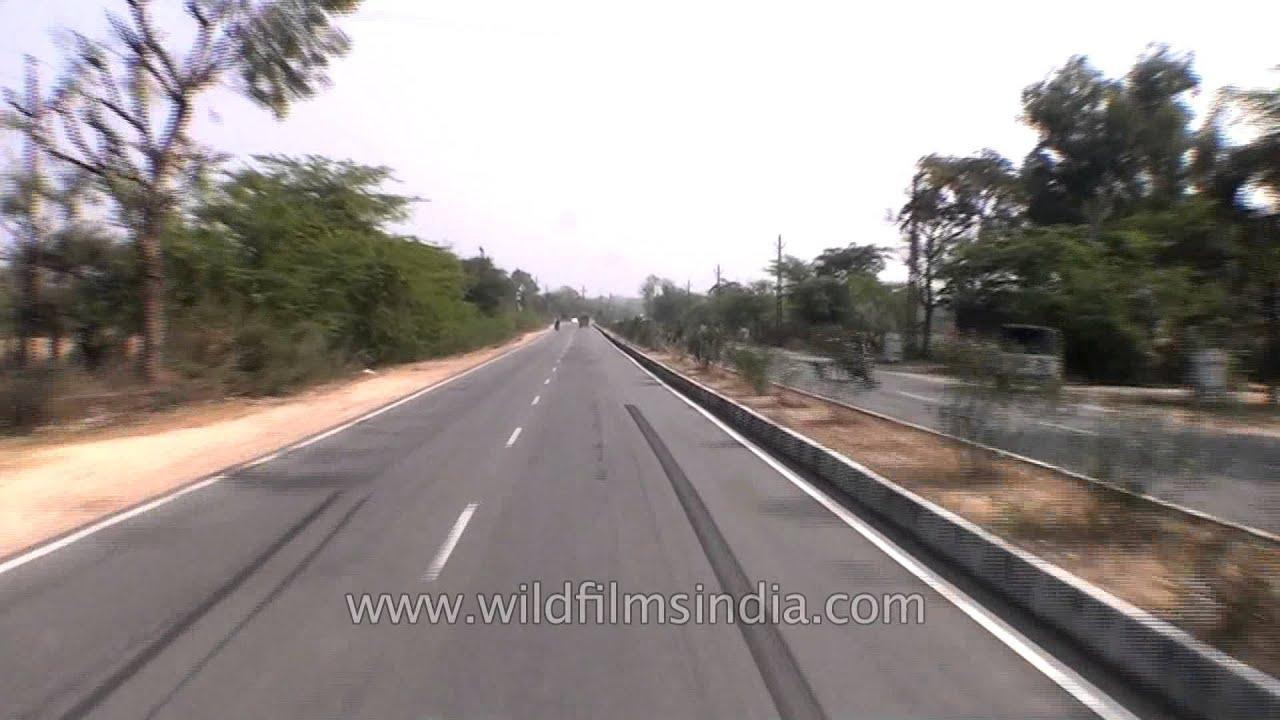watersign: (337, 578, 936, 646)
